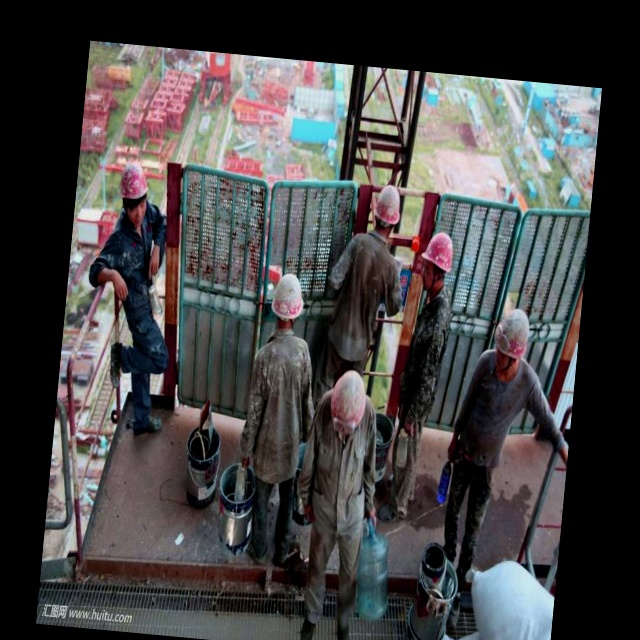Con_Casco: (270, 271, 307, 331), (117, 161, 151, 219), (421, 232, 455, 288)
Sin_Chaleco: (244, 331, 313, 475), (463, 355, 528, 469)
